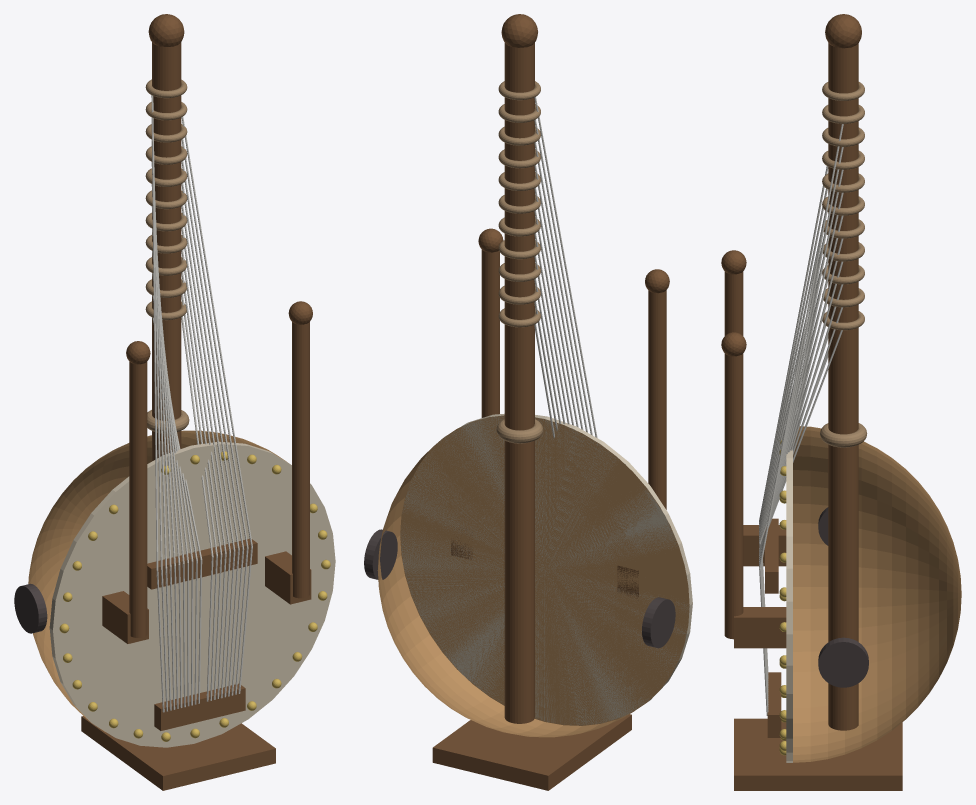
File: kora.glb
3 views of the same model, side by side, from view 1: azimuth 30°, elevation 25°; view 2: azimuth 150°, elevation 25°; view 3: azimuth 270°, elevation 25° (orthographic). The views are drawn at different scales.
Visible parts, largest first — view 1: geometry_1, geometry_33, geometry_0, geometry_2, geometry_95, geometry_92, geometry_37, geometry_36, geometry_94, geometry_91, geometry_32, geometry_89 (+15 smaller); view 2: geometry_0, geometry_1, geometry_33, geometry_2, geometry_95, geometry_92, geometry_32, geometry_31, geometry_35, geometry_89, geometry_84, geometry_79 (+3 smaller); view 3: geometry_0, geometry_33, geometry_2, geometry_92, geometry_1, geometry_91, geometry_31, geometry_95, geometry_86, geometry_35, geometry_94, geometry_36 (+17 smaller).
Part boxes in pixels (x1,y1,x2,y2): geometry_1: [49, 441, 335, 747]; geometry_33: [152, 42, 181, 461]; geometry_0: [28, 430, 287, 731]; geometry_2: [81, 716, 275, 790]; geometry_95: [129, 361, 147, 637]; geometry_92: [292, 322, 309, 598]; geometry_37: [154, 683, 245, 730]; geometry_36: [147, 538, 257, 589]; geometry_94: [102, 591, 148, 643]; geometry_91: [265, 551, 311, 604]; geometry_32: [14, 583, 47, 633]; geometry_89: [151, 95, 158, 569]; geometry_0: [377, 415, 689, 737]; geometry_1: [400, 413, 692, 725]; geometry_33: [504, 43, 534, 723]; geometry_2: [432, 714, 631, 790]; geometry_95: [648, 290, 666, 509]; geometry_92: [481, 249, 499, 417]; geometry_32: [642, 597, 675, 648]; geometry_31: [364, 529, 397, 579]; geometry_35: [501, 14, 537, 47]; geometry_89: [534, 97, 597, 437]; geometry_84: [534, 119, 592, 435]; geometry_79: [534, 142, 587, 432]; geometry_0: [793, 426, 961, 762]; geometry_33: [828, 43, 858, 730]; geometry_2: [734, 718, 902, 790]; geometry_92: [724, 353, 743, 639]; geometry_1: [786, 442, 792, 762]; geometry_91: [734, 607, 786, 648]; geometry_31: [818, 637, 868, 687]; geometry_95: [724, 271, 743, 335]; geometry_86: [759, 124, 843, 568]; geometry_35: [825, 14, 861, 48]; geometry_94: [743, 525, 786, 566]; geometry_36: [765, 518, 778, 593].
Size of the model in its own units: 0.4 by 0.977 by 0.285.
